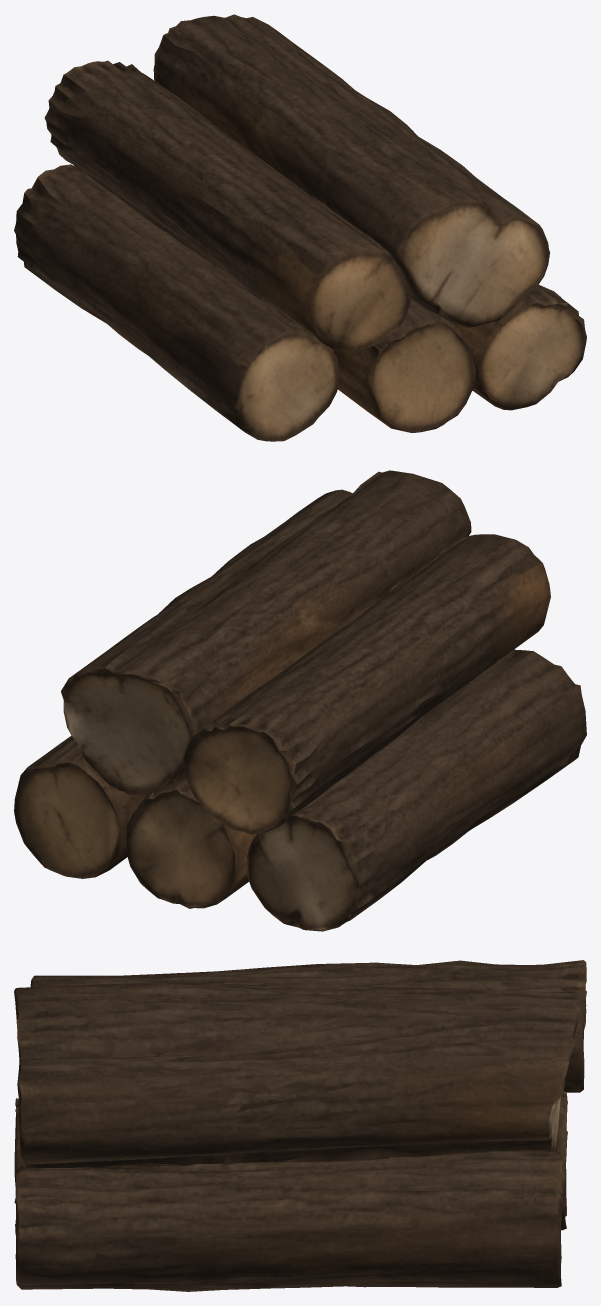
The model's file is firewood-pile-model.glb.
3 views of the same model, one above another, from view 1: azimuth 30°, elevation 25°; view 2: azimuth 150°, elevation 25°; view 3: azimuth 270°, elevation 25° (orthographic). The views are drawn at different scales.
Parts seen in each view (by area): view 1: firewood-pile.001; view 2: firewood-pile.001; view 3: firewood-pile.001.
Part boxes in pixels (bbox=[...]): firewood-pile.001: bbox=[14, 14, 586, 441]; firewood-pile.001: bbox=[14, 470, 586, 931]; firewood-pile.001: bbox=[14, 960, 586, 1291].
Size of the model in its own units: 1.07 by 0.7 by 1.46.
1 material, 1 textured.
